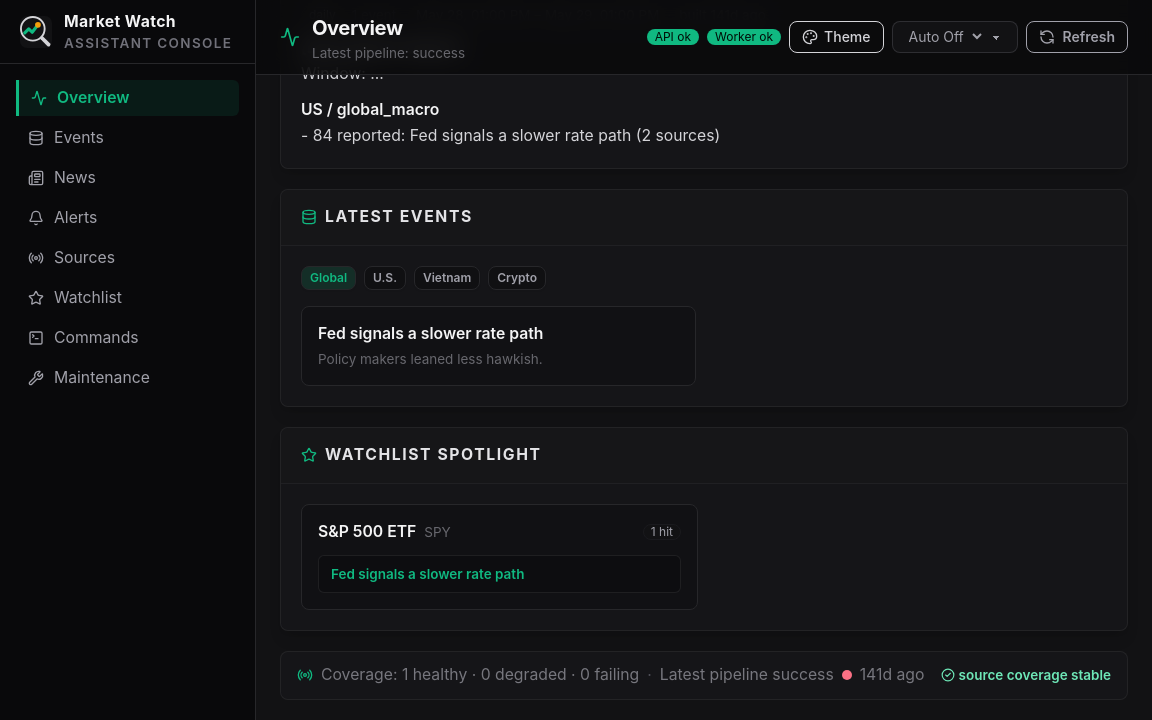
Test: App data states › opens the Events summary from a watchlist spotlight event context menu
(page scrolled)
Right-click the button "Fed signals a slower rate path": (500, 574) top-left (318, 555), bottom-right (681, 593)
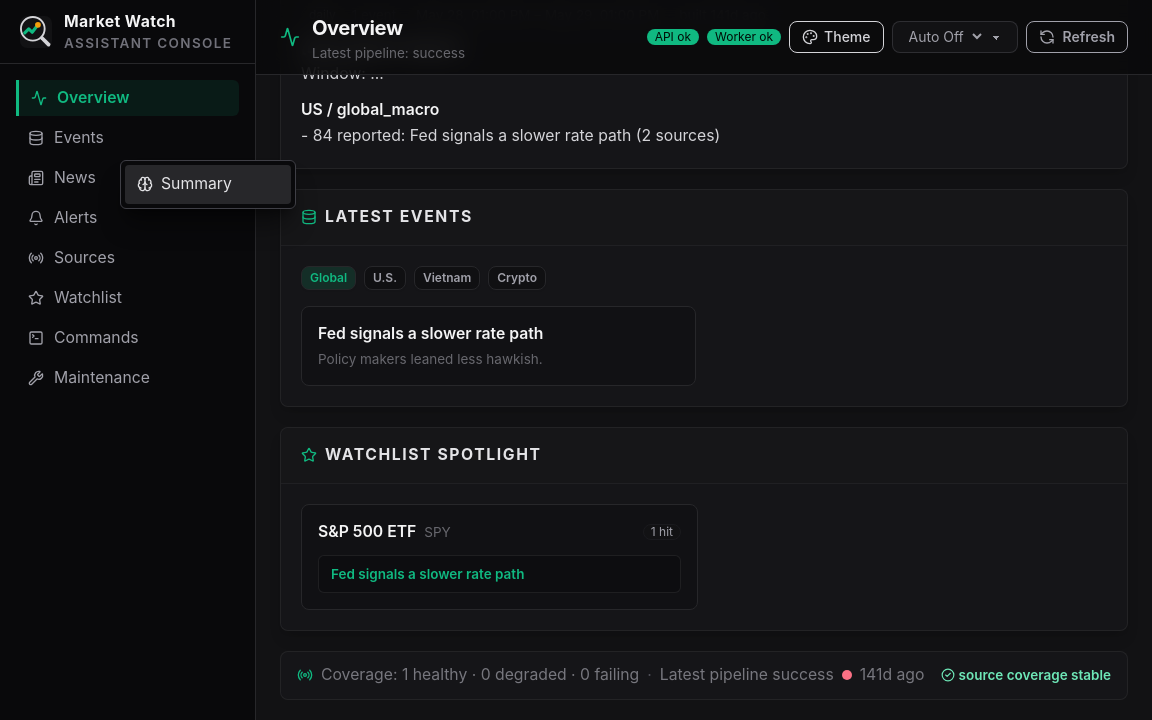
Click the menu item "Summary": (208, 184) top-left (125, 165), bottom-right (291, 204)
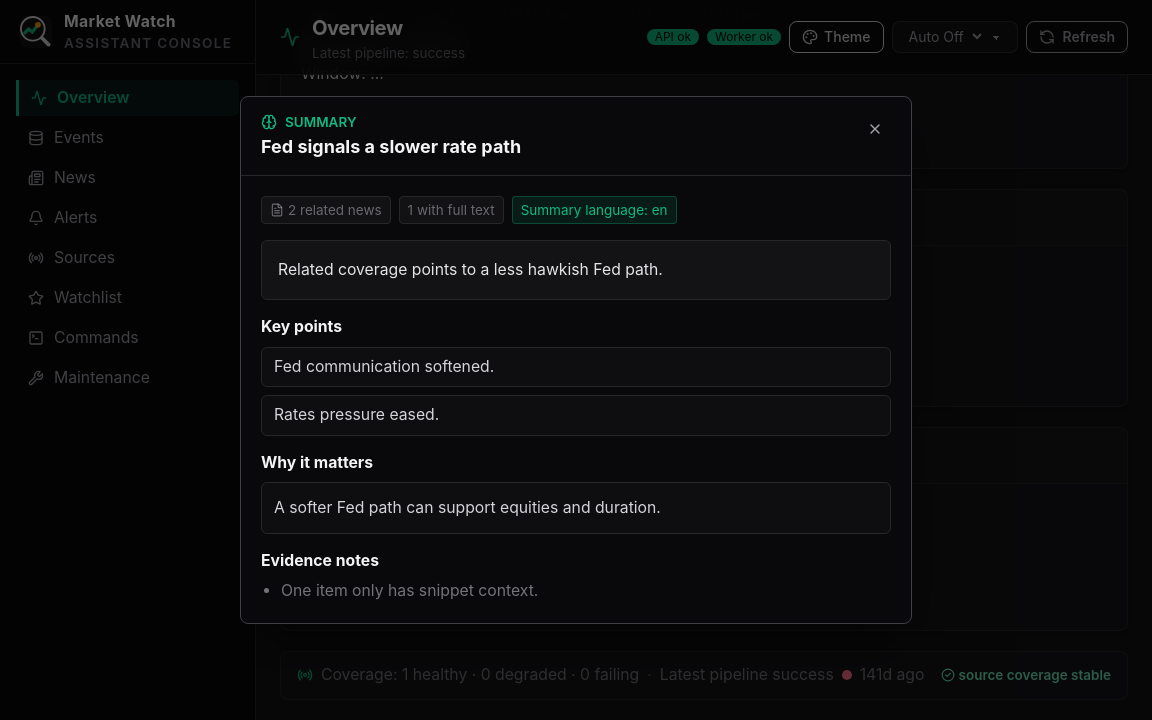
Expected: the dialog named "Related news summary" is shown, top-left (240, 96), bottom-right (912, 624)
